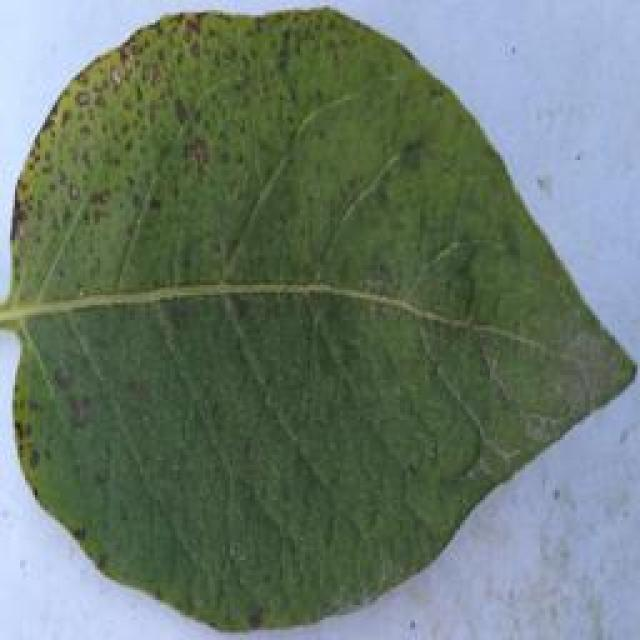Potato_Early_Blight: (7, 2, 640, 632)
